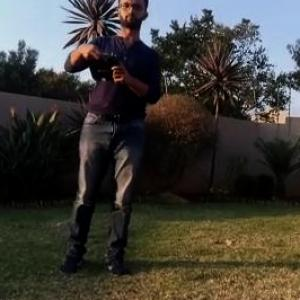follow: (54, 0, 167, 279)
